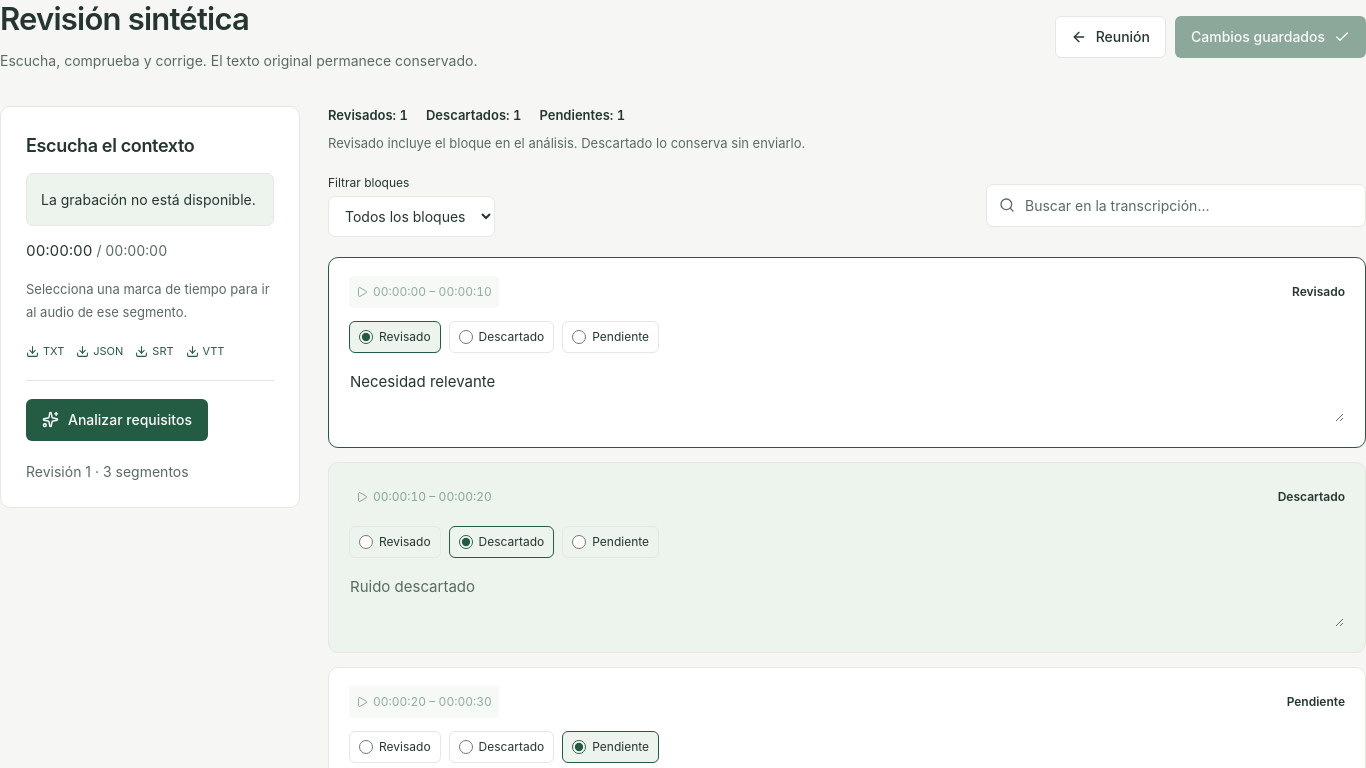
Scenario: preserves a draft on 409 and allows an explicit reload before retrying
The width and height of the screenshot is (1366, 768).
Replace the text in the text box named "Texto del segmento 00:00:00" with "Mi borrador": {"x": 847, "y": 395} x1=349 y1=367 x2=1345 y2=423
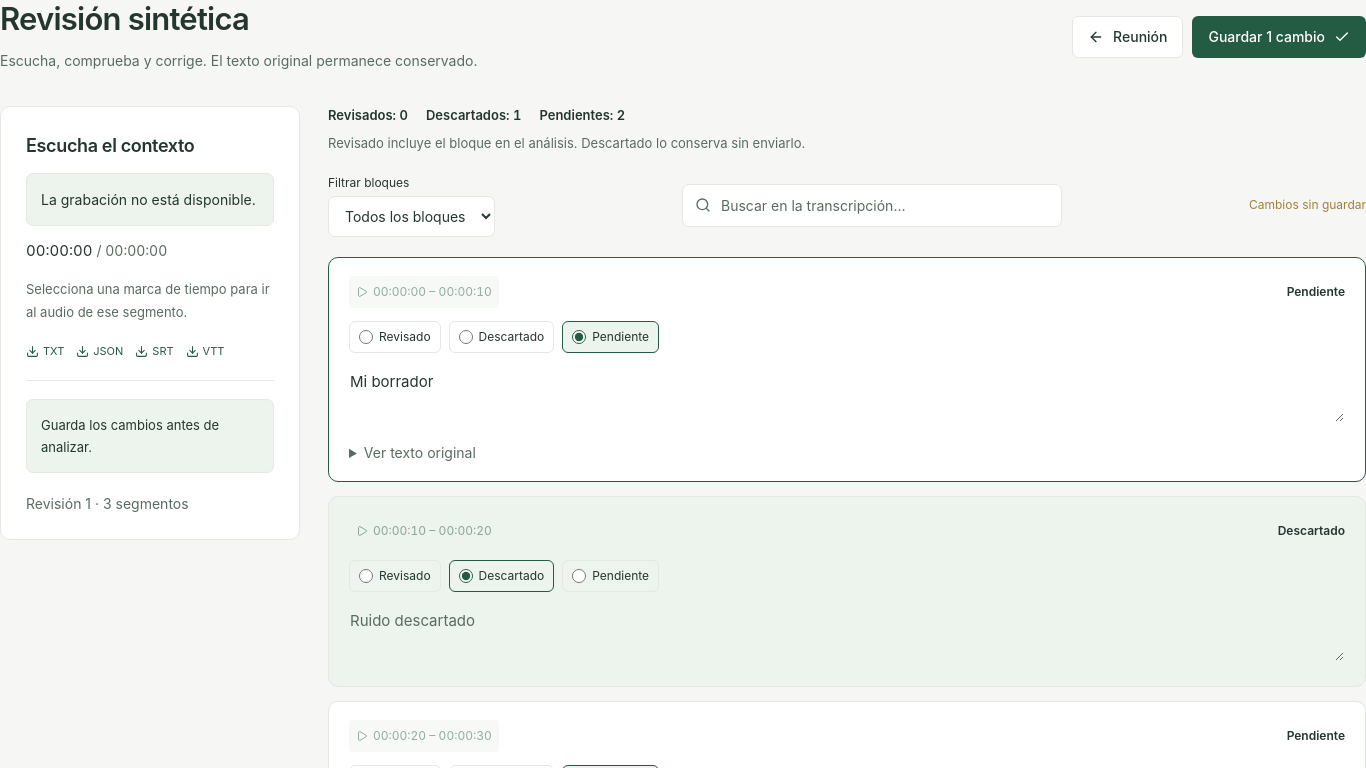
Click the button "Guardar 1 cambio": {"x": 1279, "y": 37} x1=1192 y1=16 x2=1365 y2=58
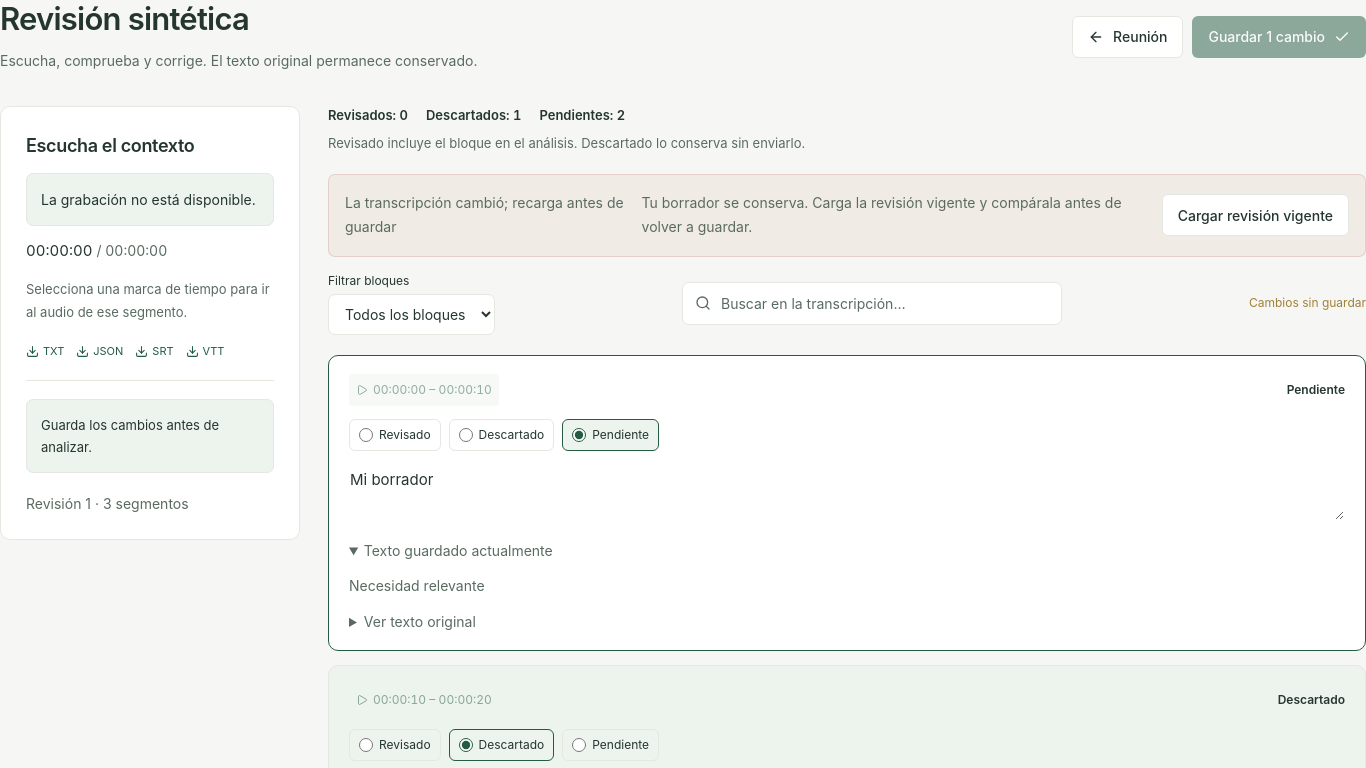
Expected: the message is shown, x1=328 y1=174 x2=1365 y2=257
Expected: the button "Guardar 1 cambio" is disabled, x1=1192 y1=16 x2=1365 y2=58
Click the button "Cargar revisión vigente": {"x": 1255, "y": 216} x1=1162 y1=194 x2=1349 y2=236
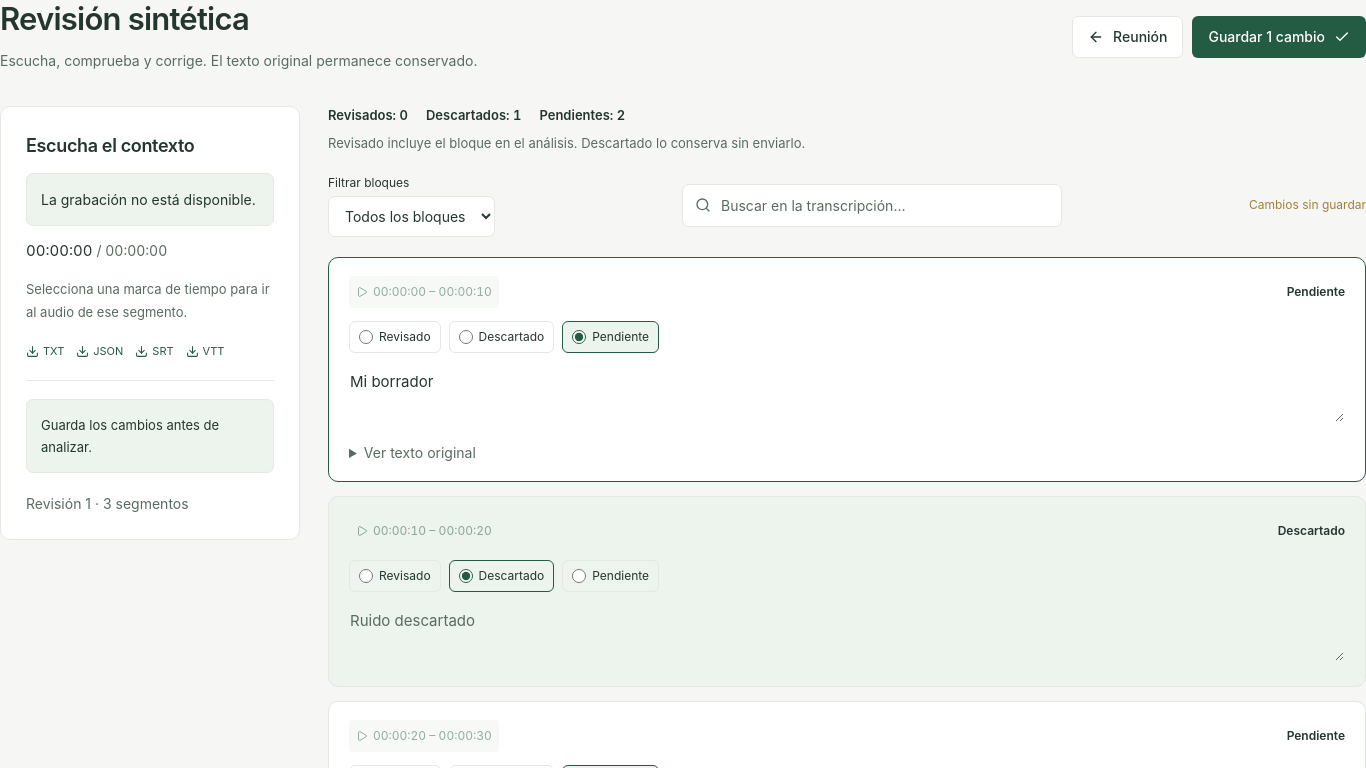
Expected: the message is gone
